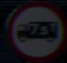Heavy Vehicles: (5, 1, 61, 53)
